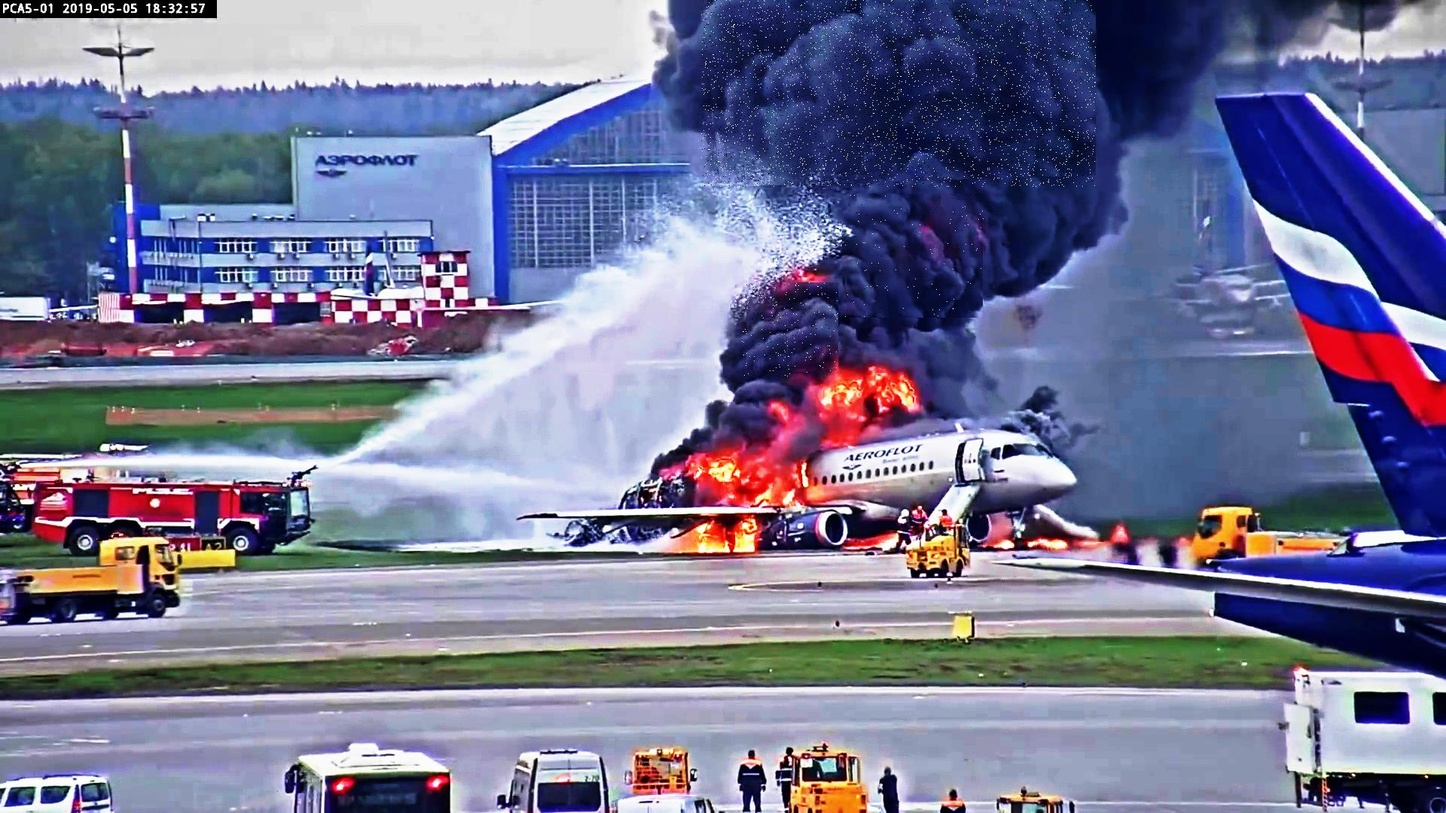smoke: (701, 0, 1096, 187), (843, 194, 985, 320), (742, 282, 838, 376)
